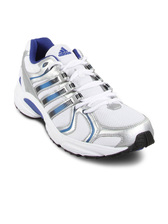shoes: (12, 36, 159, 158)
